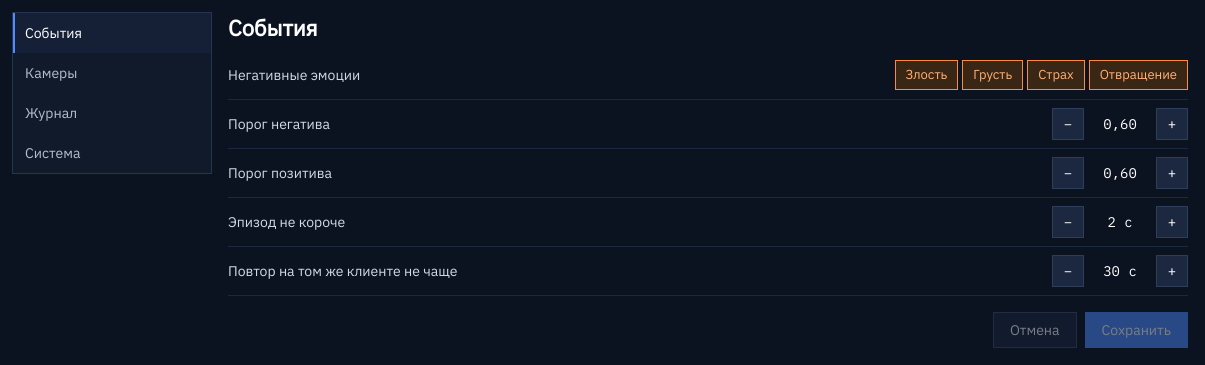
Test: Settings unsaved guard › leaves without asking when nothing changed
expect the heading "События" is shown: met, box top-left (228, 12), bottom-right (318, 44)
expect the button "Сохранить" is disabled: met, box top-left (1085, 312), bottom-right (1188, 348)
Step 1. Click the link "Журнал" → click(51, 113), box top-left (25, 104), bottom-right (77, 122)
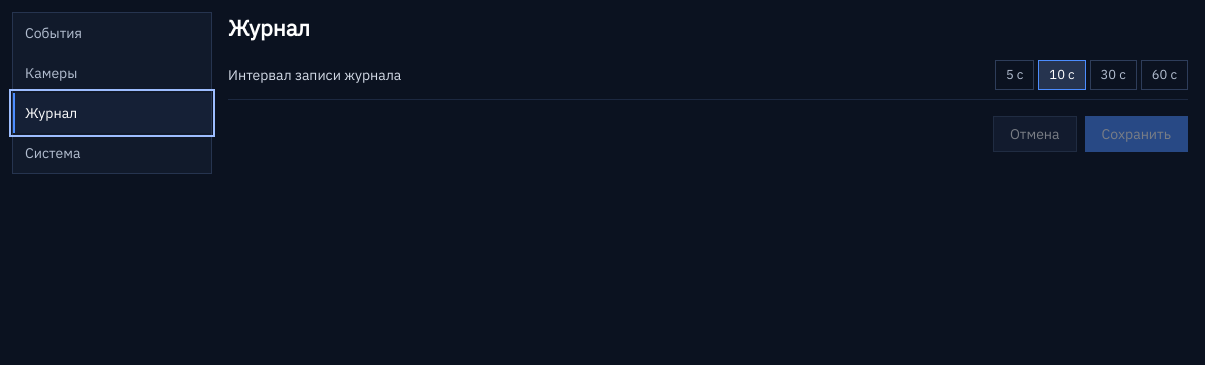
expect the heading "Журнал" is shown: met, box top-left (228, 12), bottom-right (310, 44)
